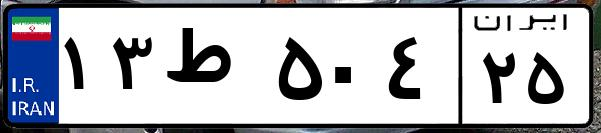0: (330, 28, 385, 110)
1: (57, 26, 110, 100)
2: (475, 38, 525, 113)
3: (110, 28, 158, 98)
4: (385, 28, 445, 110)
5: (270, 28, 330, 110), (525, 38, 570, 115)
ط: (158, 20, 270, 120)
